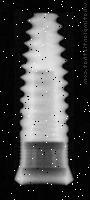OCO Biomedical: (14, 12, 74, 185)
